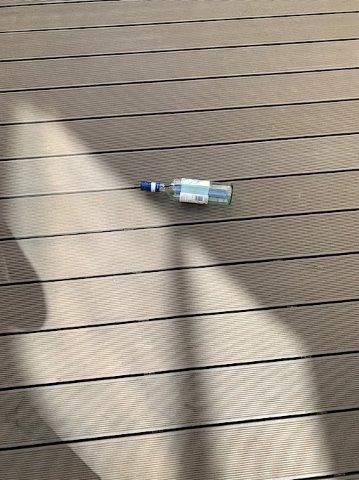botolkaca: (138, 176, 234, 209)
